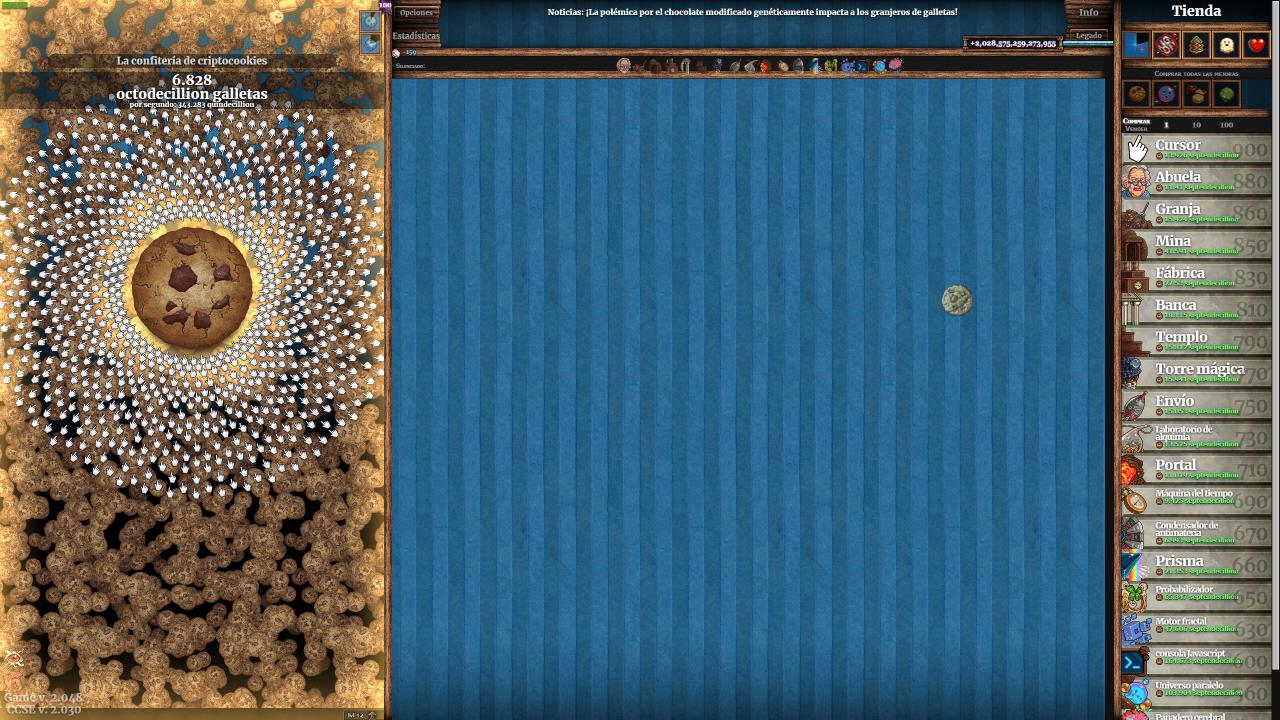GoldenCookie: (940, 282, 976, 318)
